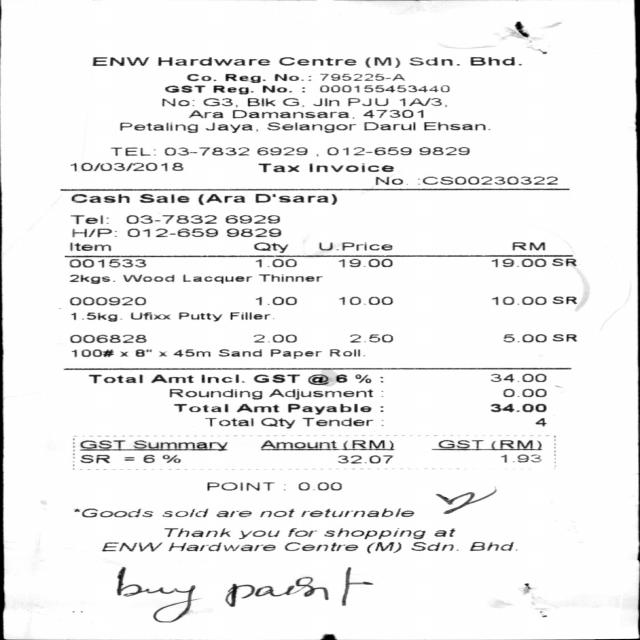text: (260, 438, 392, 450), (69, 160, 182, 174), (268, 388, 372, 400), (231, 109, 353, 119), (156, 56, 269, 66), (300, 508, 413, 518), (438, 438, 540, 449), (416, 176, 556, 184), (323, 528, 424, 539), (166, 542, 274, 552), (266, 121, 355, 133), (318, 84, 448, 92), (168, 388, 261, 399), (286, 402, 370, 414), (133, 440, 230, 450), (124, 214, 216, 224), (126, 228, 217, 238), (254, 193, 336, 204), (118, 122, 196, 133), (326, 146, 410, 156), (164, 146, 248, 156), (72, 508, 152, 518), (278, 56, 355, 66), (68, 258, 145, 268), (308, 163, 392, 172), (283, 542, 357, 552), (181, 274, 251, 284), (318, 73, 404, 81), (69, 297, 145, 306), (205, 481, 273, 491), (70, 334, 145, 343), (423, 121, 489, 131), (163, 528, 229, 538), (318, 242, 391, 251), (300, 417, 372, 426), (100, 542, 161, 552), (204, 122, 257, 133), (90, 56, 148, 66), (70, 193, 128, 203), (196, 193, 244, 205), (257, 273, 321, 282), (78, 437, 121, 450), (225, 228, 280, 238), (270, 348, 320, 359), (172, 403, 227, 413), (337, 454, 392, 464), (362, 109, 422, 118), (338, 258, 391, 268), (69, 312, 121, 322), (488, 373, 545, 382), (489, 403, 546, 412), (408, 56, 459, 66), (469, 56, 520, 66), (256, 146, 307, 156), (123, 454, 179, 463), (138, 193, 188, 203), (419, 146, 468, 156), (224, 214, 278, 223), (491, 258, 545, 267), (491, 296, 545, 305), (87, 374, 141, 383), (160, 508, 208, 518), (468, 541, 516, 551), (410, 541, 458, 551), (338, 296, 391, 305), (399, 97, 446, 107), (68, 274, 113, 284), (348, 333, 392, 343), (204, 417, 252, 426), (253, 258, 296, 268), (253, 296, 296, 306), (178, 312, 221, 322), (235, 403, 278, 413), (307, 374, 346, 385), (362, 122, 415, 130), (223, 73, 264, 83), (122, 274, 173, 282), (366, 542, 400, 554), (109, 147, 154, 156), (253, 374, 298, 383), (72, 228, 116, 237), (502, 333, 546, 342), (252, 333, 296, 342), (502, 388, 546, 397), (200, 374, 243, 383), (297, 482, 340, 491), (364, 57, 399, 68), (252, 242, 287, 253), (256, 163, 298, 172), (68, 242, 110, 251), (218, 348, 260, 357), (150, 374, 192, 383), (78, 453, 109, 465), (70, 214, 107, 224), (228, 311, 269, 320), (499, 454, 540, 463), (129, 311, 169, 320), (238, 530, 278, 539), (348, 97, 387, 106), (202, 98, 236, 108), (260, 418, 294, 428), (259, 508, 293, 518), (70, 349, 112, 357), (172, 348, 209, 357), (211, 86, 252, 94), (164, 84, 204, 92), (187, 109, 222, 118), (329, 348, 363, 357), (512, 242, 544, 250), (374, 176, 402, 185), (215, 510, 251, 517), (287, 528, 315, 537), (162, 98, 193, 106), (261, 84, 291, 92), (186, 73, 214, 81), (247, 98, 274, 106), (274, 73, 300, 81), (312, 98, 338, 106), (550, 296, 576, 304), (550, 334, 576, 342), (281, 98, 303, 107), (433, 528, 454, 537), (354, 374, 372, 384), (553, 258, 575, 266), (135, 349, 150, 357), (534, 418, 546, 427), (118, 351, 126, 357), (157, 351, 165, 356), (315, 154, 317, 156), (283, 489, 284, 491)
